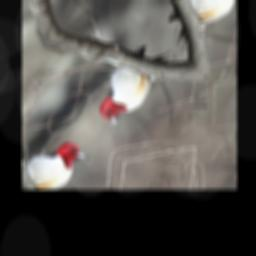Woodpecker: (84, 31, 185, 132)
